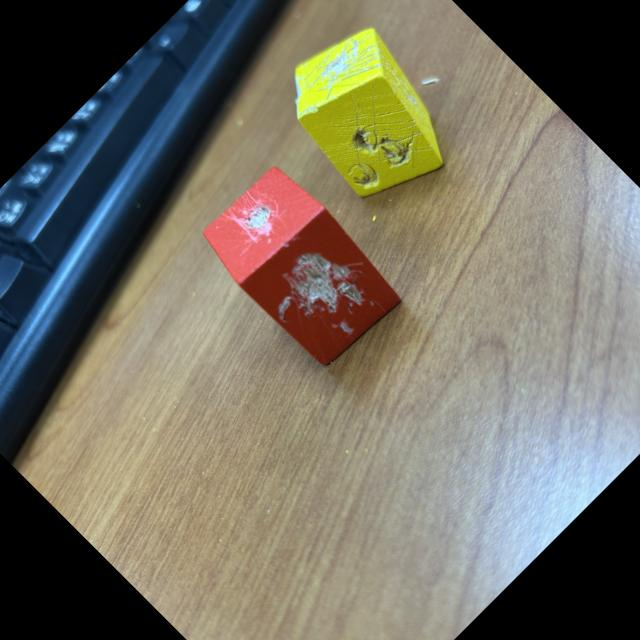broken: (193, 157, 410, 374), (261, 7, 478, 224)
